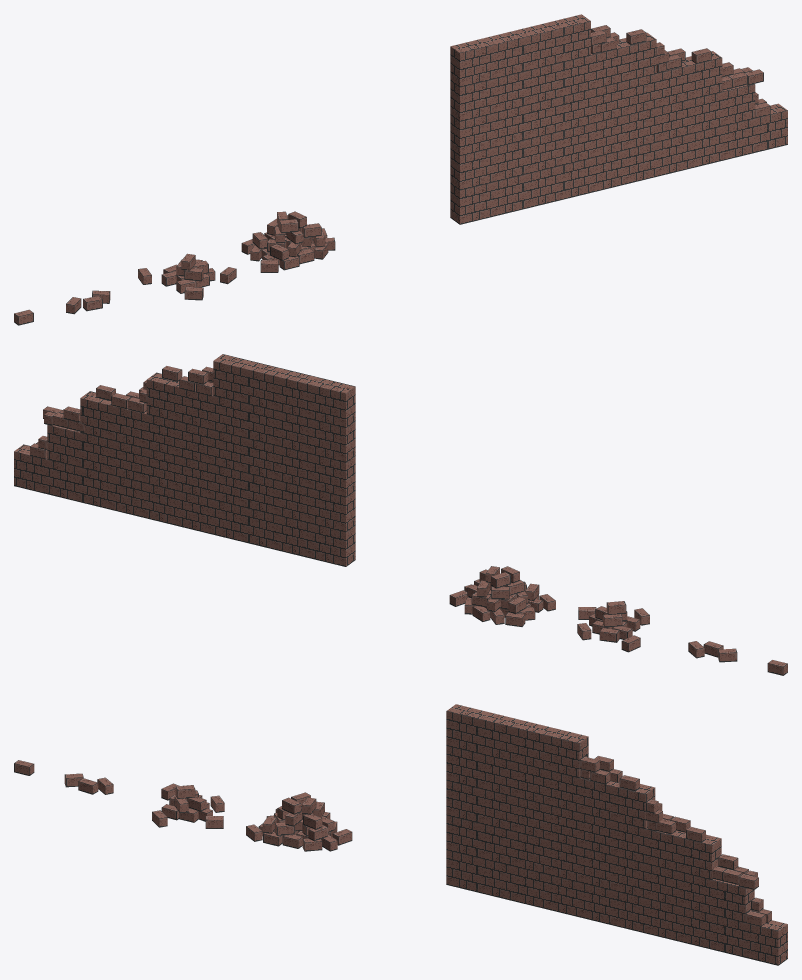
Rendered from mod_masonry.fbx.
3 renders of one model, top to bottom at view 1: azimuth 30°, elevation 25°; view 2: azimuth 150°, elevation 25°; view 3: azimuth 330°, elevation 25°, orthographic.
Visible parts, largest first — view 1: wall_unfinished, brick_pile_large, brick_pile_medium, brick_pile_small; view 2: wall_unfinished, brick_pile_large, brick_pile_medium, brick_pile_small; view 3: wall_unfinished, brick_pile_large, brick_pile_medium, brick_pile_small.
Boxes of the visible parts, x1=… form: wall_unfinished: x1=450, y1=14, x2=787, y2=224; brick_pile_large: x1=241, y1=211, x2=335, y2=272; brick_pile_medium: x1=138, y1=253, x2=236, y2=300; brick_pile_small: x1=66, y1=290, x2=110, y2=314; wall_unfinished: x1=14, y1=354, x2=355, y2=566; brick_pile_large: x1=449, y1=566, x2=555, y2=626; brick_pile_medium: x1=577, y1=601, x2=649, y2=652; brick_pile_small: x1=688, y1=641, x2=737, y2=662; wall_unfinished: x1=446, y1=704, x2=787, y2=965; brick_pile_large: x1=246, y1=792, x2=352, y2=851; brick_pile_medium: x1=152, y1=783, x2=224, y2=828; brick_pile_small: x1=64, y1=773, x2=113, y2=794.
Bounding box in the file's own units: 23.24 × 5 × 2.35.
